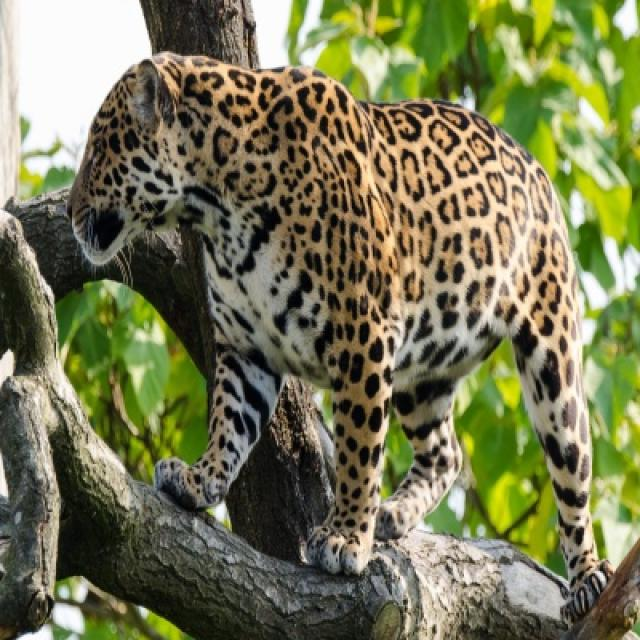Jaguar: (66, 53, 602, 600)
